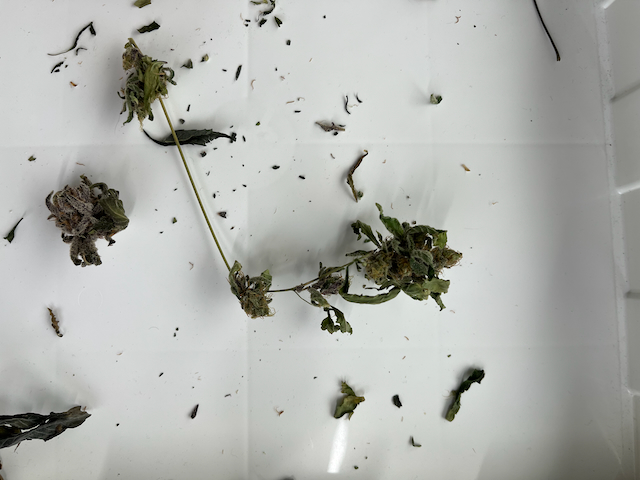Bud: (364, 232, 459, 294), (46, 183, 128, 242), (120, 50, 169, 115), (237, 286, 273, 318), (312, 274, 344, 293)
Stem: (162, 129, 228, 263), (276, 285, 292, 295)
